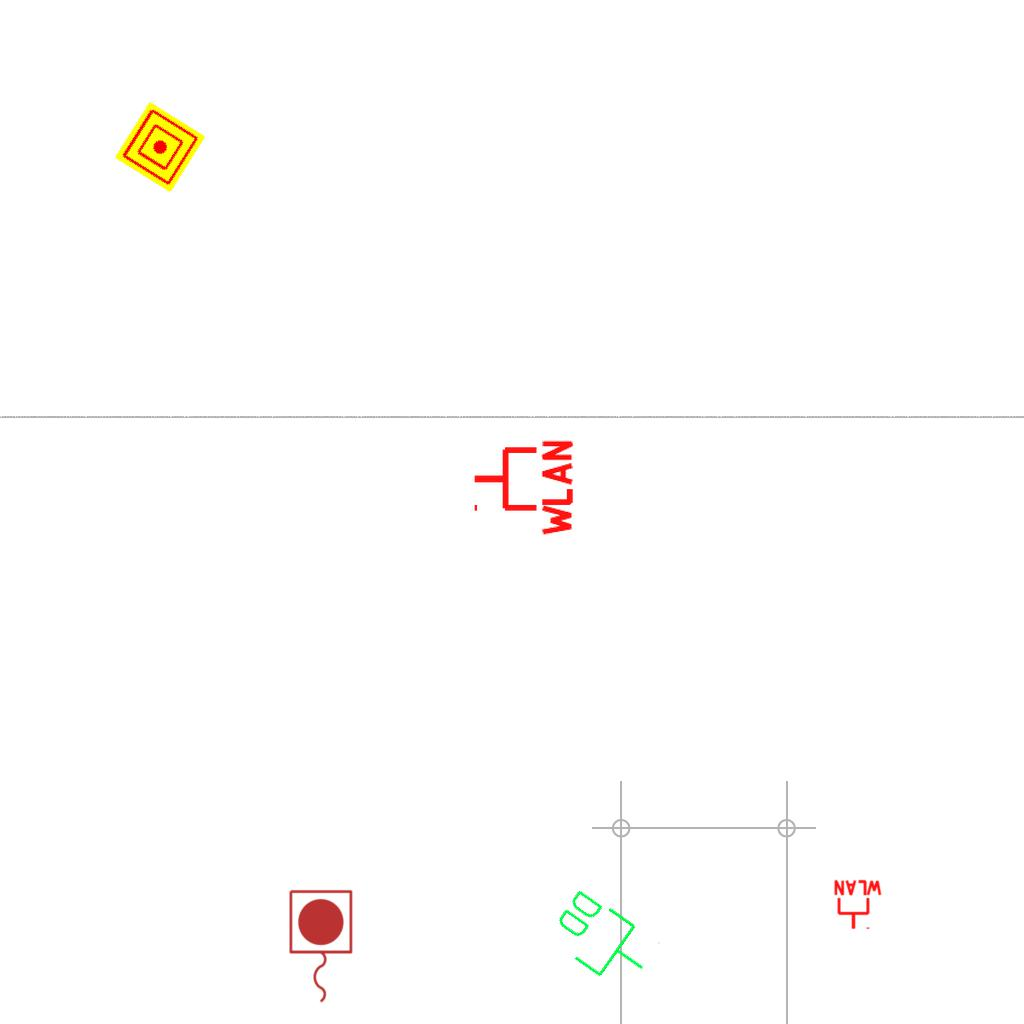Datenanschluss_zweifach: (540, 881, 665, 998)
NAM-Nichtautomatischer_Melder: (114, 101, 206, 193)
WLAN: (470, 436, 575, 540), (832, 879, 884, 931)
Zugtaster: (284, 886, 356, 1008)
